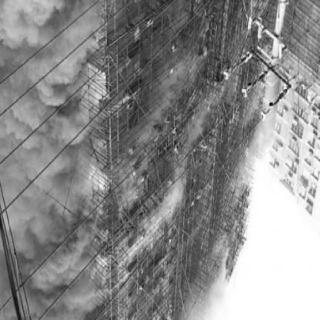Fire: (134, 222, 166, 258), (88, 252, 110, 300), (191, 2, 210, 20)
